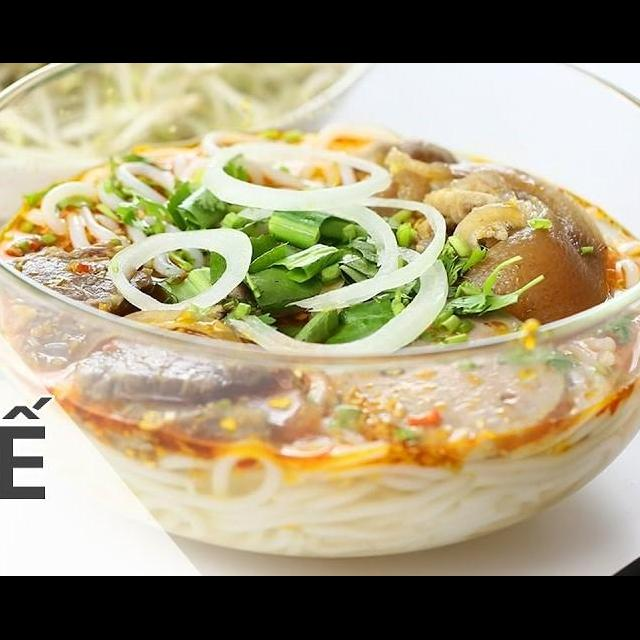bun: (150, 436, 550, 560)
bun bo: (0, 104, 640, 539)
thit bo: (56, 356, 337, 472), (60, 311, 312, 414), (0, 240, 159, 380)
